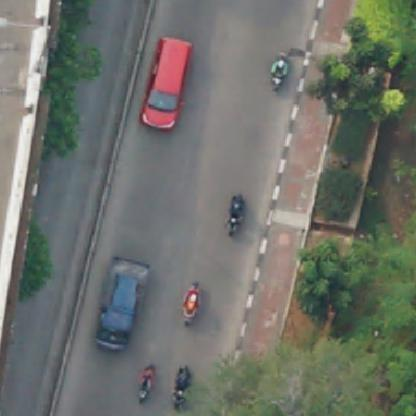Car: (141, 36, 191, 133), (96, 256, 145, 352)
Motorcycle: (179, 279, 202, 328), (226, 194, 246, 236), (170, 368, 192, 406), (134, 366, 156, 403), (271, 53, 289, 91)
